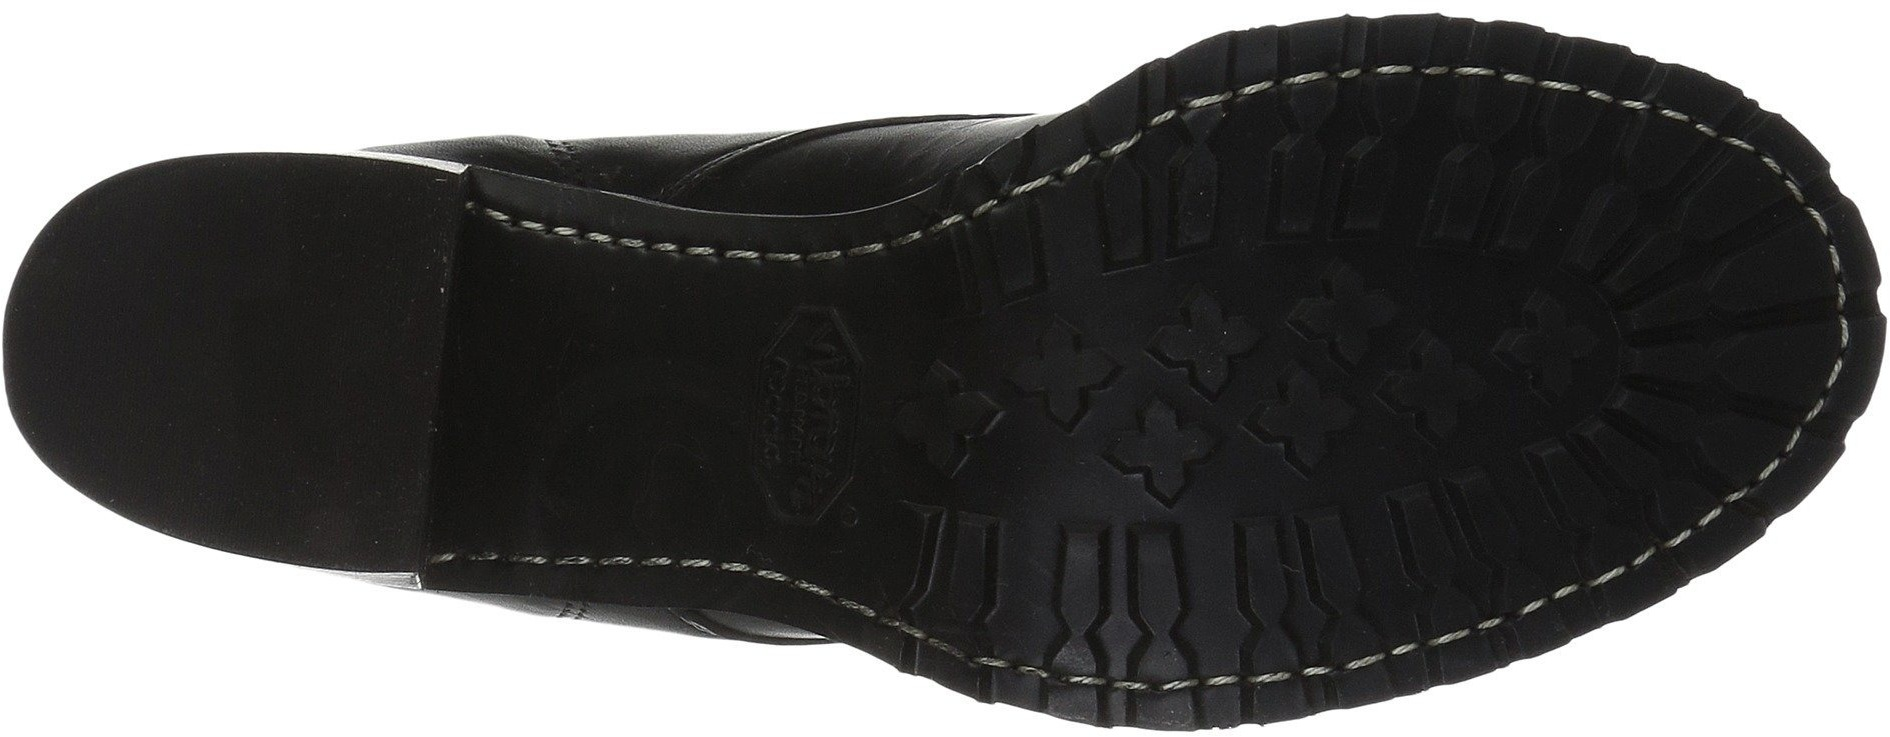bowtie: (1228, 490, 1452, 714), (1616, 228, 1833, 445), (1164, 51, 1358, 255), (1401, 55, 1591, 248)
other: (130, 185, 412, 491)
star: (1157, 263, 1395, 495), (931, 324, 1150, 521), (1405, 263, 1574, 461)
text: (727, 339, 893, 502)
